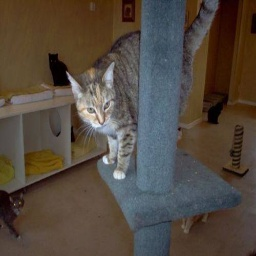cat: (66, 0, 216, 182)
